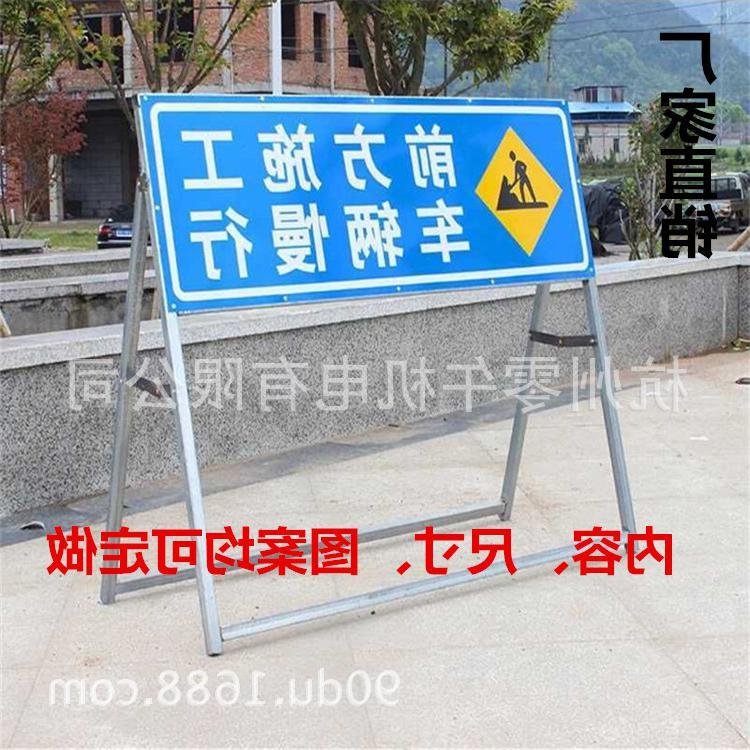sign: (155, 96, 592, 303)
